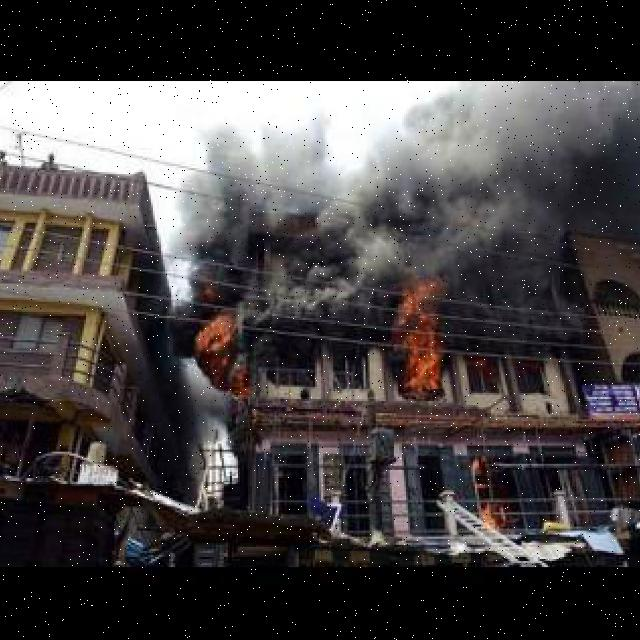fire: (388, 278, 444, 409), (186, 306, 258, 399), (467, 452, 501, 540)
smoke: (173, 106, 640, 350)
